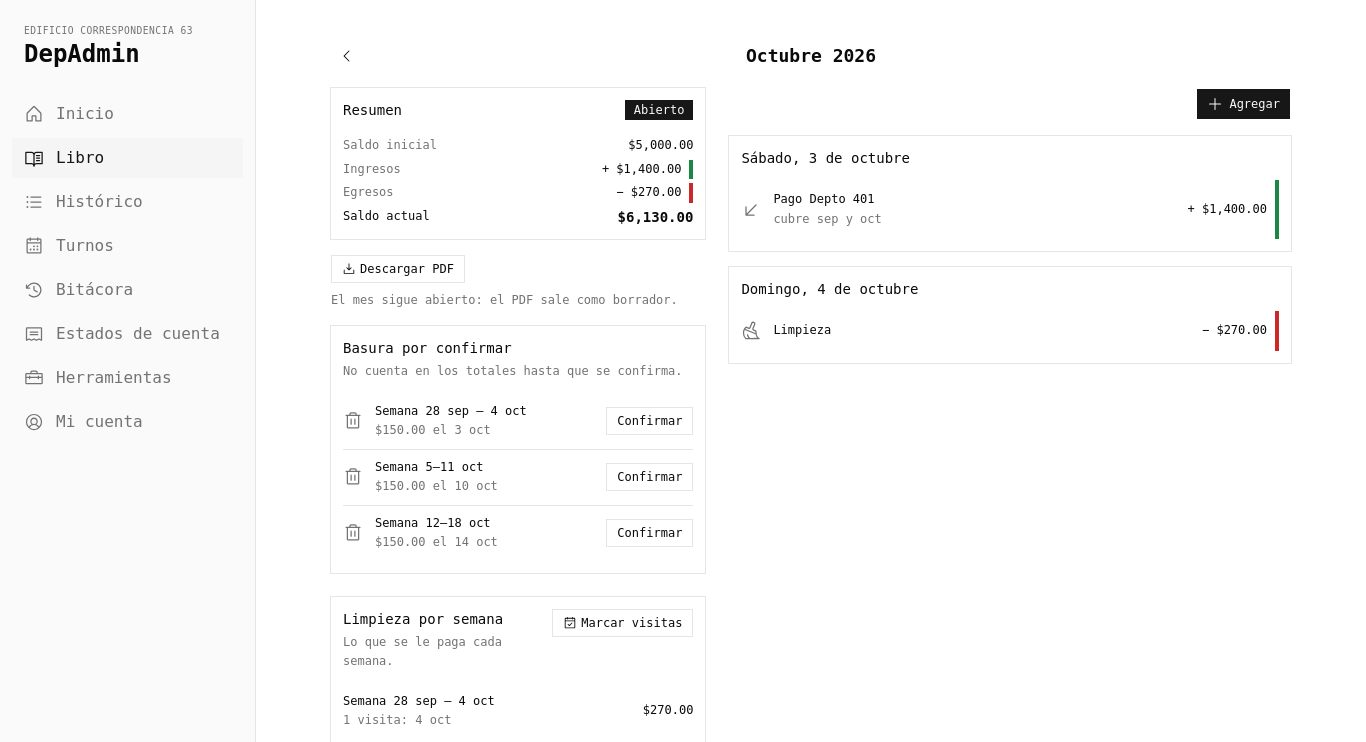
the month’s PDF › says why the PDF could not be prepared
This screenshot has width=1366, height=742.
Click the button "Descargar PDF": click(398, 268) [331,254,465,282]
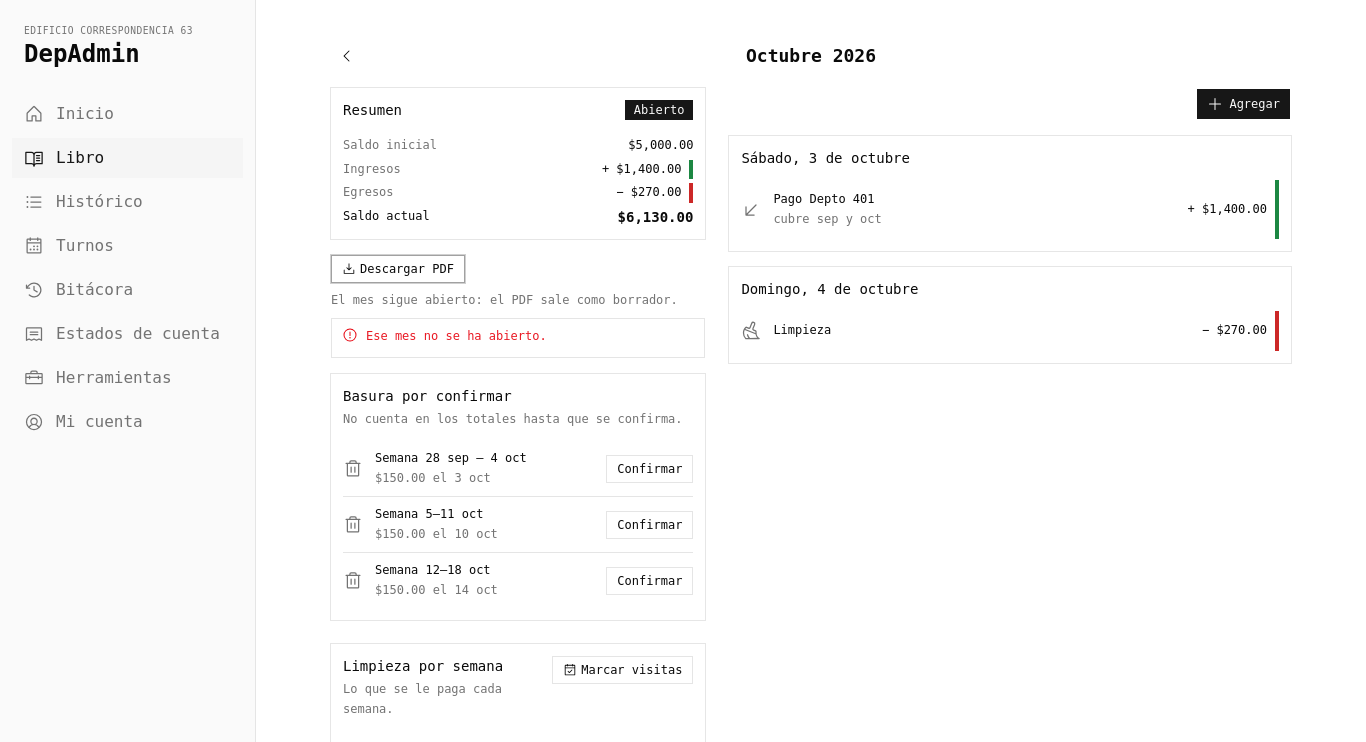
Expected: the text "Ese mes no se ha abierto." is shown, [366,329,547,343]
